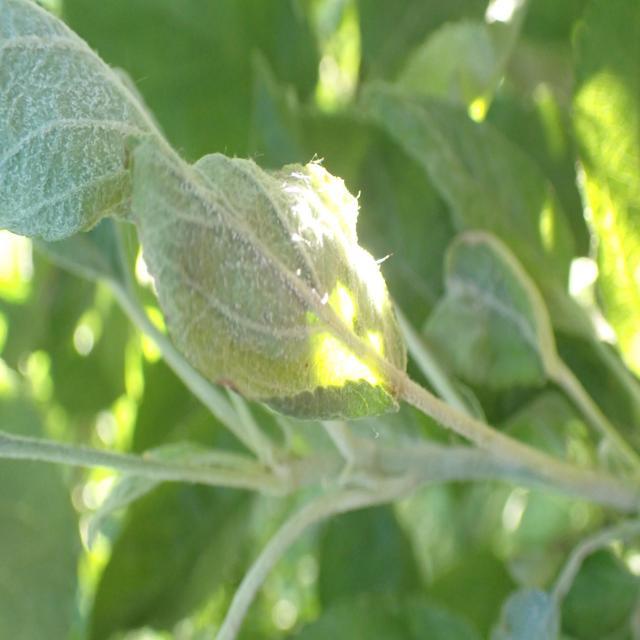Powdery_mildew: (0, 0, 407, 439)
